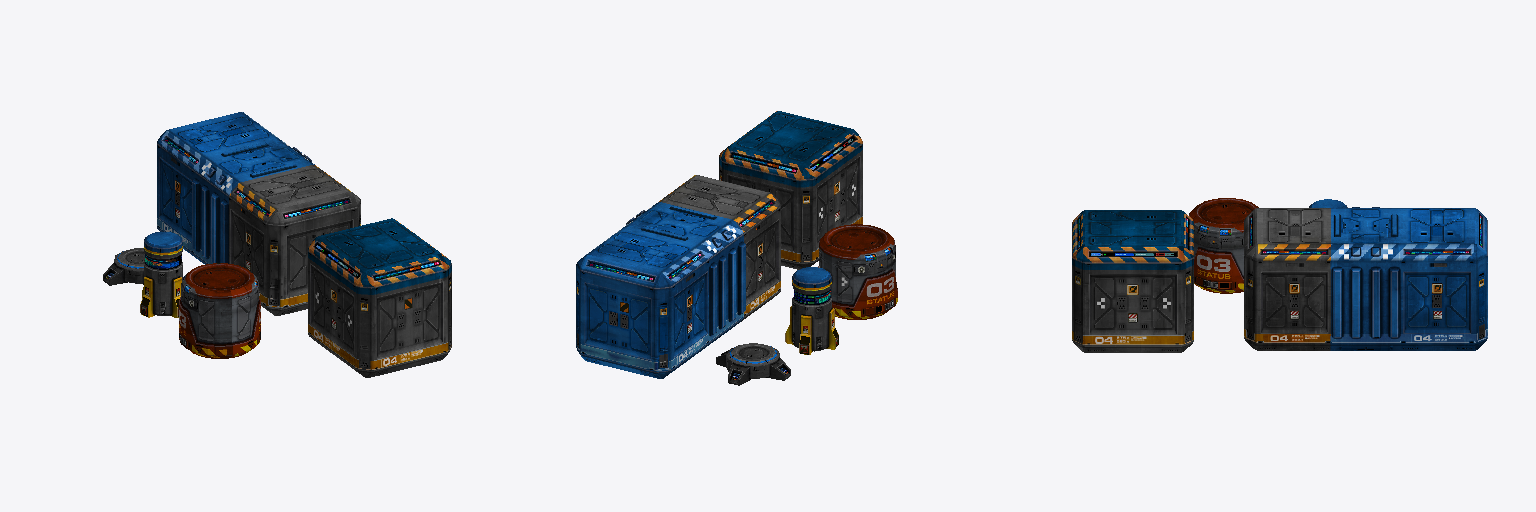
The picture shows the model from 3 angles: view 1: azimuth 30°, elevation 25°; view 2: azimuth 150°, elevation 25°; view 3: azimuth 270°, elevation 25°; orthographic projection.
Visible parts, largest first — view 1: SciFi_Container_Big, SciFi_Container_Medium, SciFi_Container_Barrel, SciFi_Battery, SciFi_Land_Mine; view 2: SciFi_Container_Big, SciFi_Container_Medium, SciFi_Container_Barrel, SciFi_Battery, SciFi_Land_Mine; view 3: SciFi_Container_Big, SciFi_Container_Medium, SciFi_Container_Barrel.
Part boxes in pixels (left/top/right/bottom): SciFi_Container_Big: left=157, top=112, right=360, bottom=315; SciFi_Container_Medium: left=308, top=218, right=451, bottom=377; SciFi_Container_Barrel: left=179, top=263, right=260, bottom=358; SciFi_Battery: left=140, top=232, right=182, bottom=317; SciFi_Land_Mine: left=103, top=248, right=144, bottom=285; SciFi_Container_Big: left=576, top=175, right=780, bottom=378; SciFi_Container_Medium: left=719, top=111, right=862, bottom=269; SciFi_Container_Barrel: left=818, top=224, right=897, bottom=319; SciFi_Battery: left=785, top=267, right=838, bottom=354; SciFi_Land_Mine: left=716, top=343, right=790, bottom=385; SciFi_Container_Big: left=1244, top=207, right=1487, bottom=350; SciFi_Container_Medium: left=1072, top=210, right=1193, bottom=352; SciFi_Container_Barrel: left=1189, top=198, right=1258, bottom=293.
Bounding box in the file's own units: 593 × 314 × 1086.
2 materials, 1 textured.